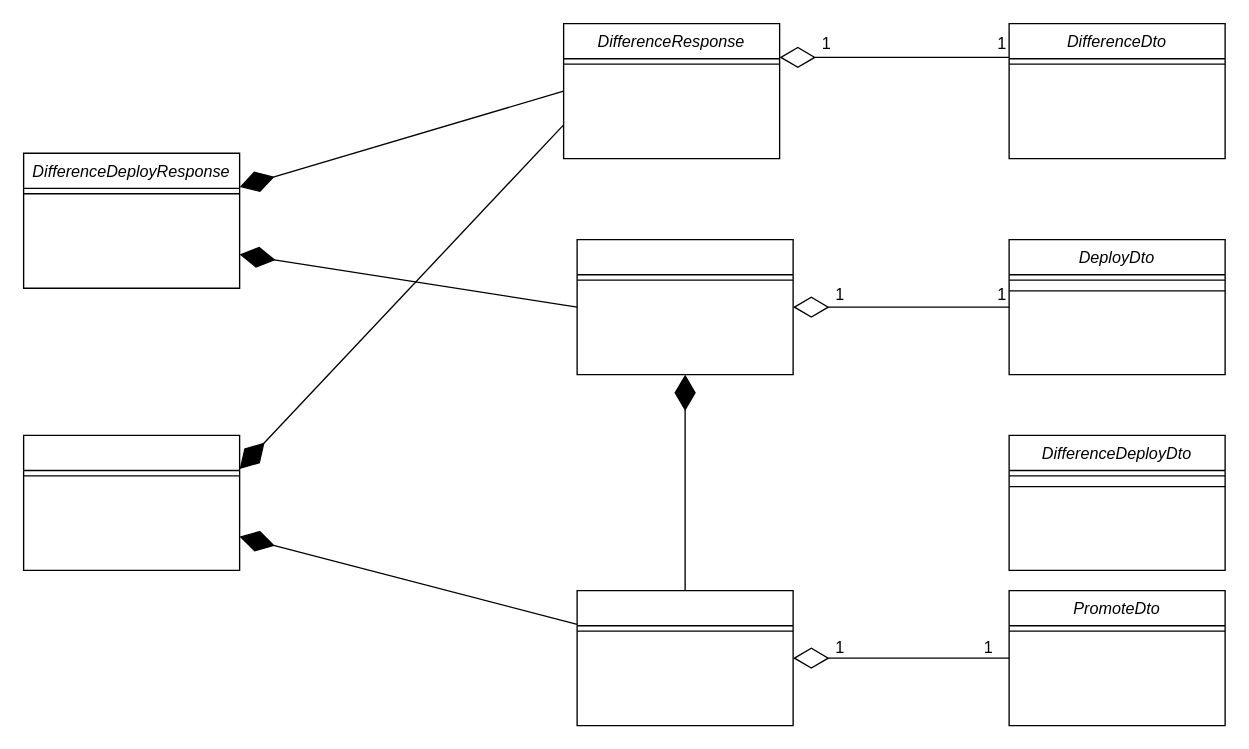
Image size: 1249x749. Some labels were removed from this diagram. Each missing label, with the centre of its shape:
"DeployResponse" goes at (684,306).
"DifferencePromoteResponse" goes at (131,502).
"PromoteResponse" goes at (684,657).
